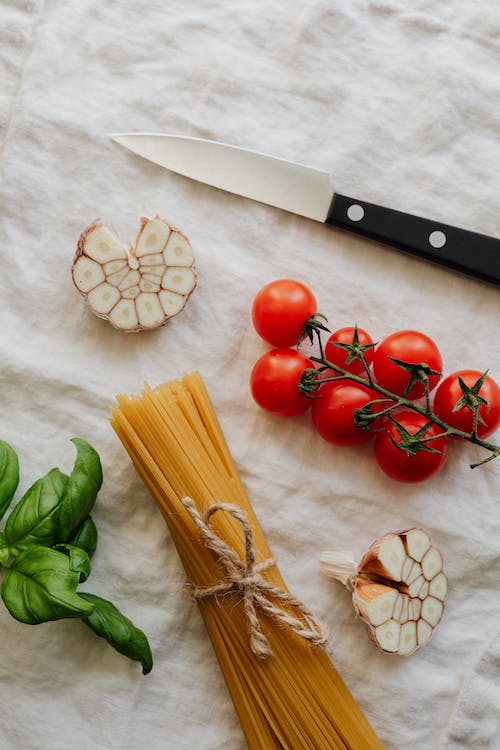knife: (105, 131, 500, 289)
